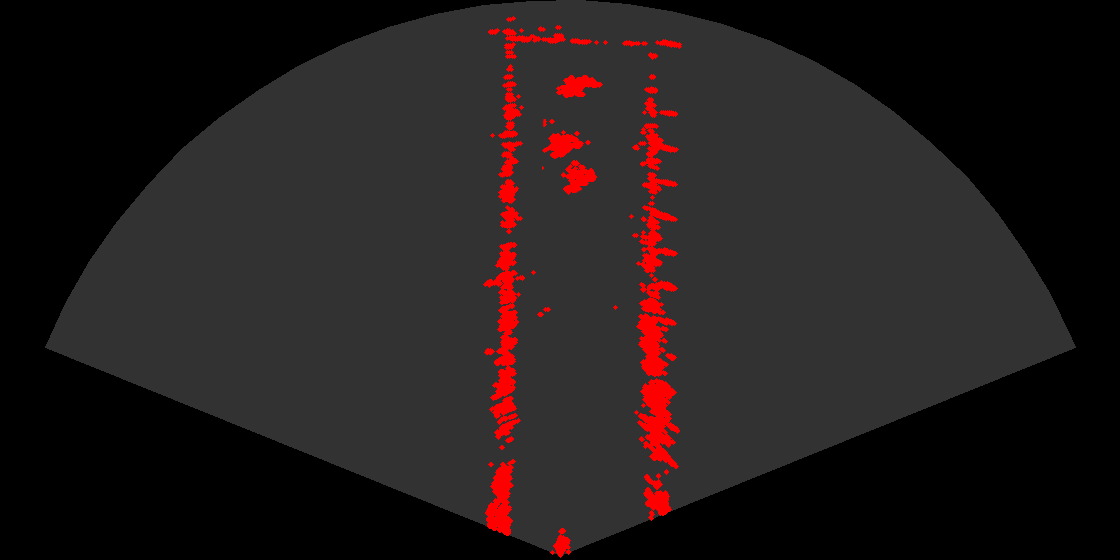AUV: (550, 73, 606, 105)
cage: (542, 119, 605, 203)
